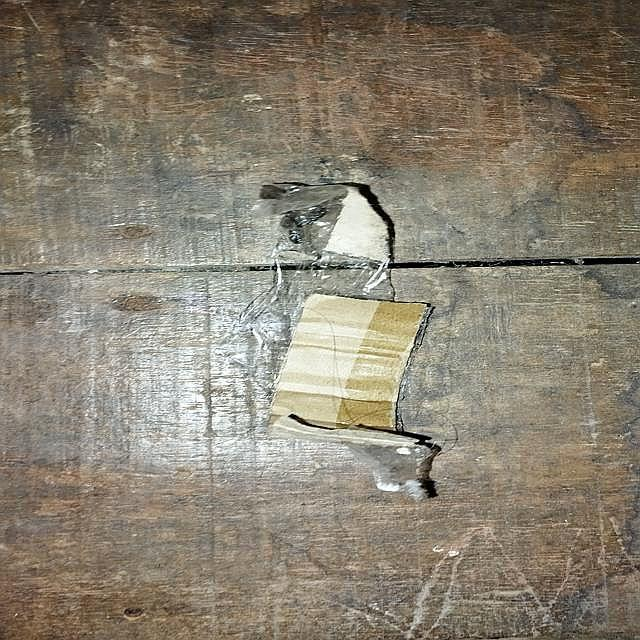Biodegradable: (279, 194, 433, 438)
